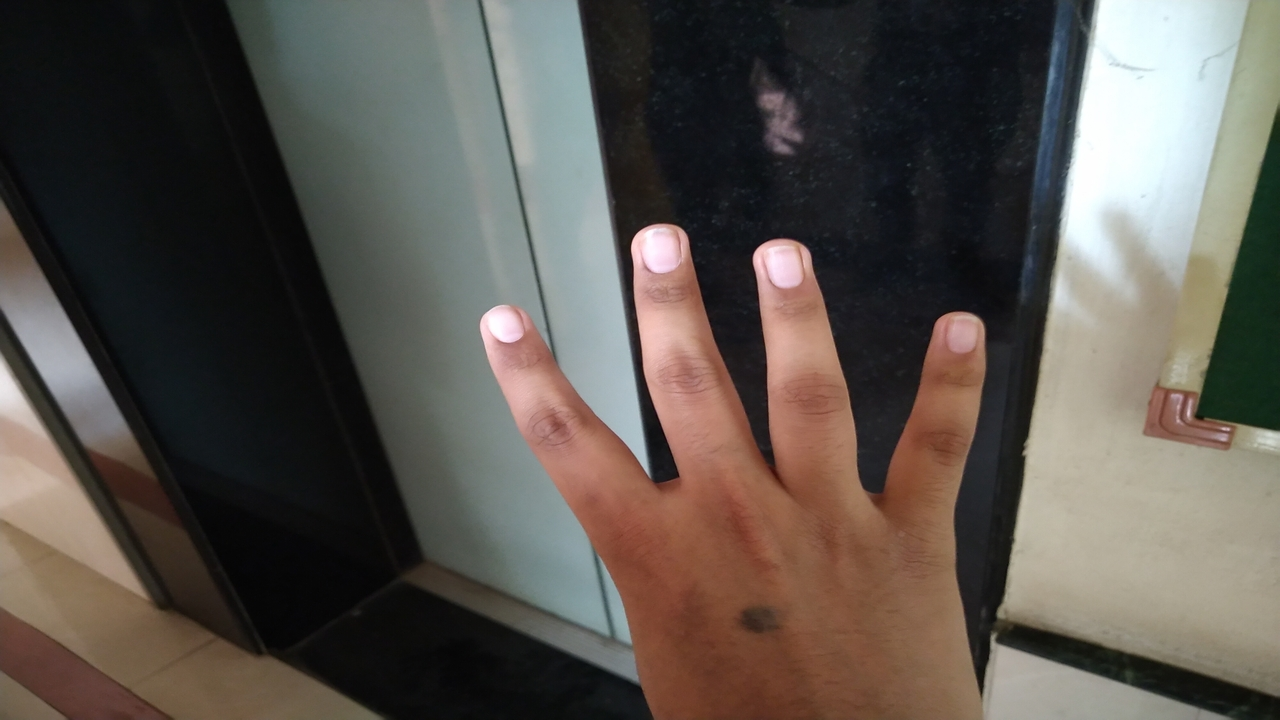fingertip: (626, 218, 698, 290), (746, 234, 820, 300), (468, 300, 536, 368), (924, 304, 994, 370)
